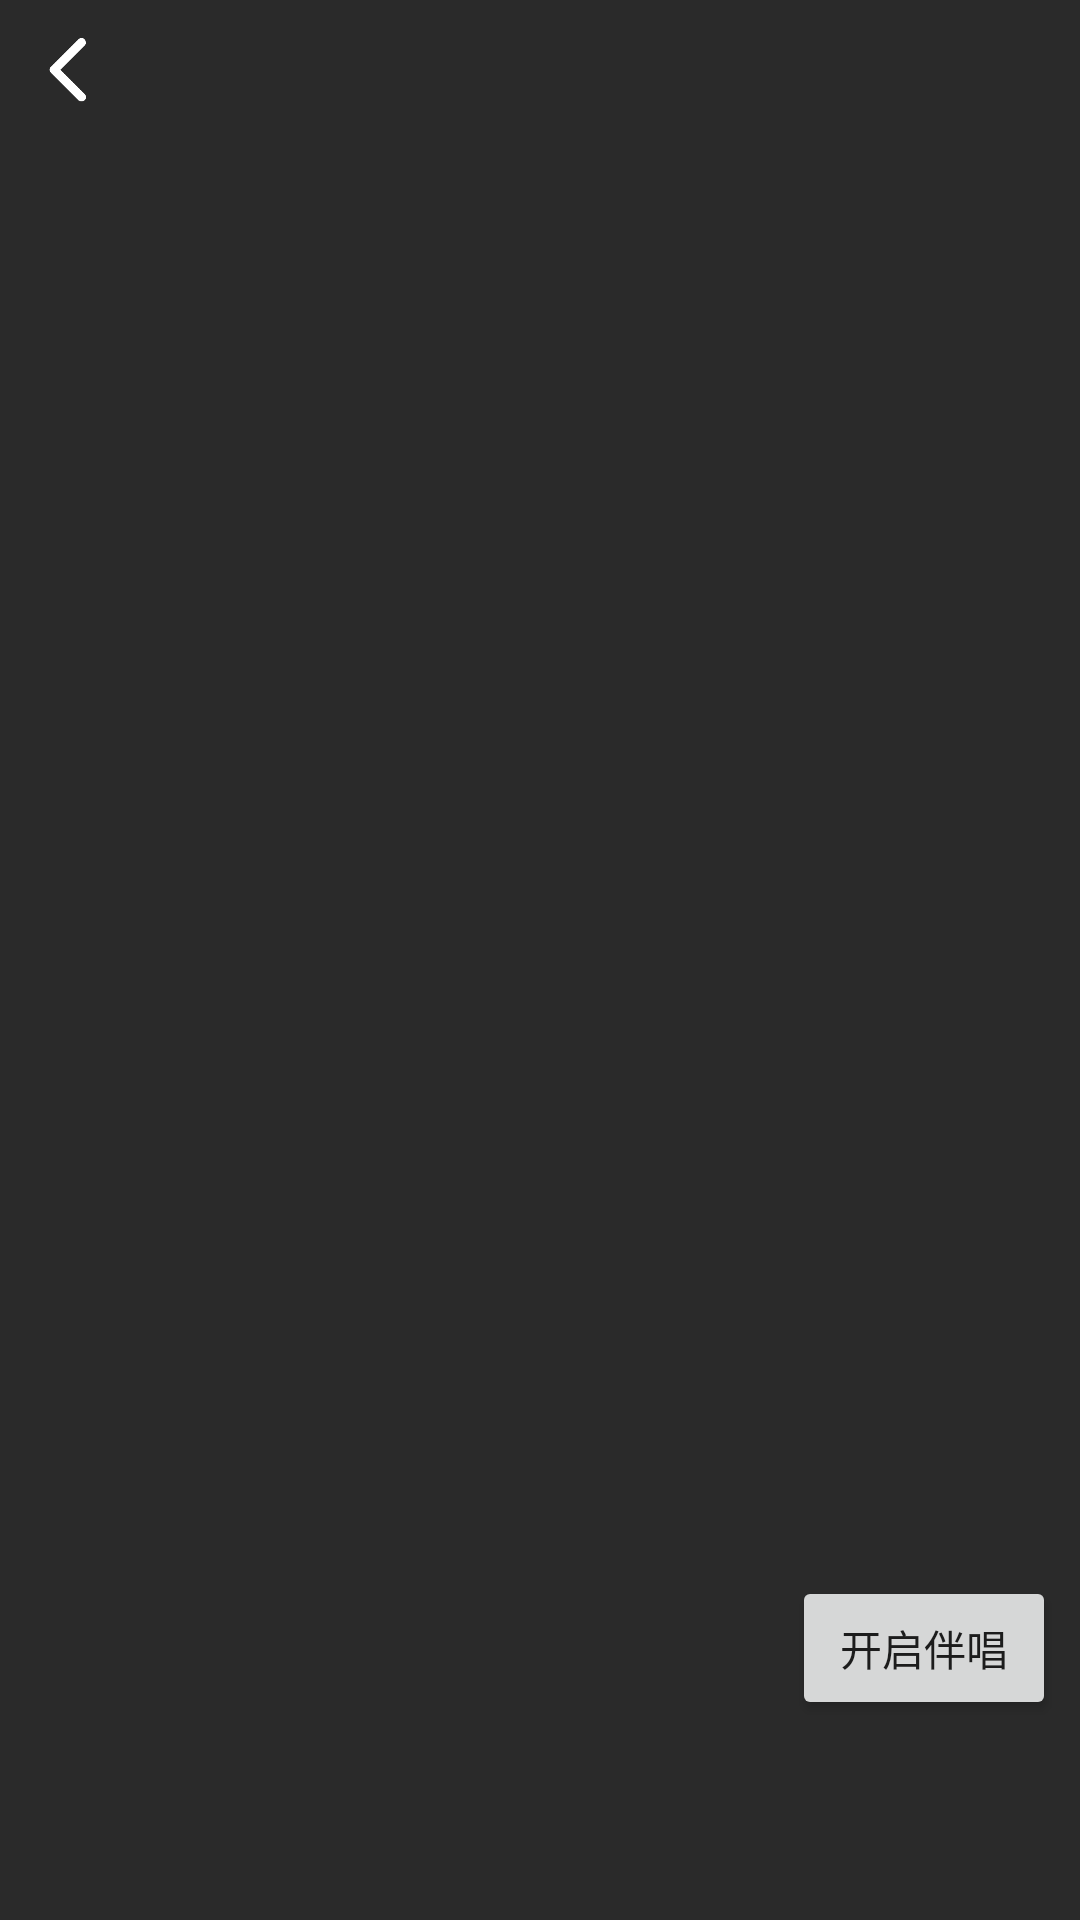

Where to tap for icons on this 1080×1920 app screen, as (x=x, y=y):
back: (x=67, y=70)
